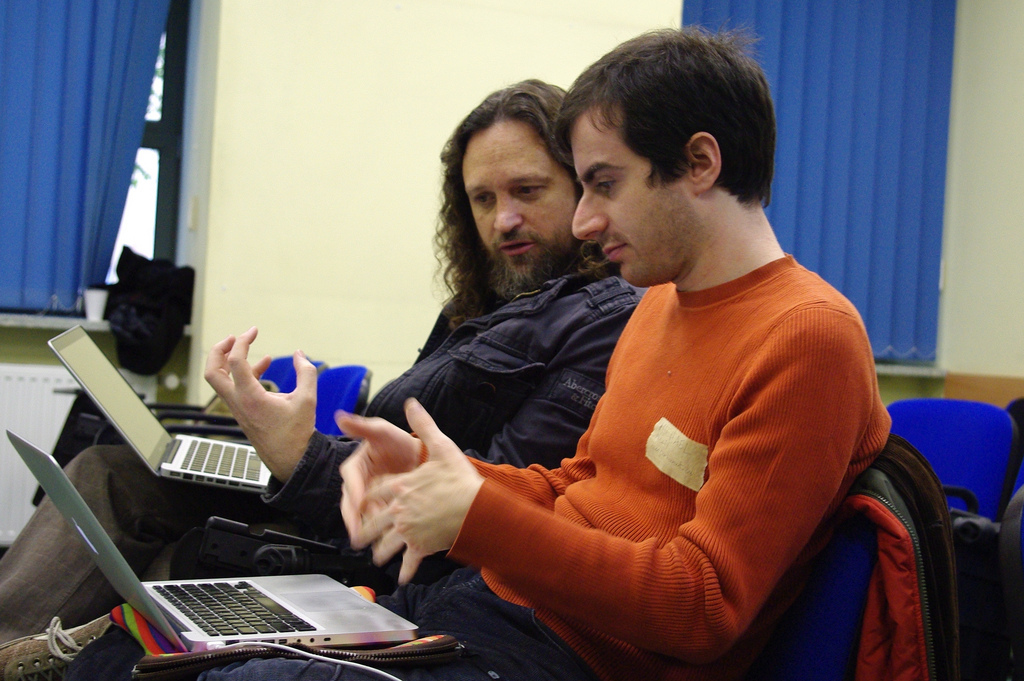Human_hand: (350, 396, 484, 585), (203, 324, 316, 476)
